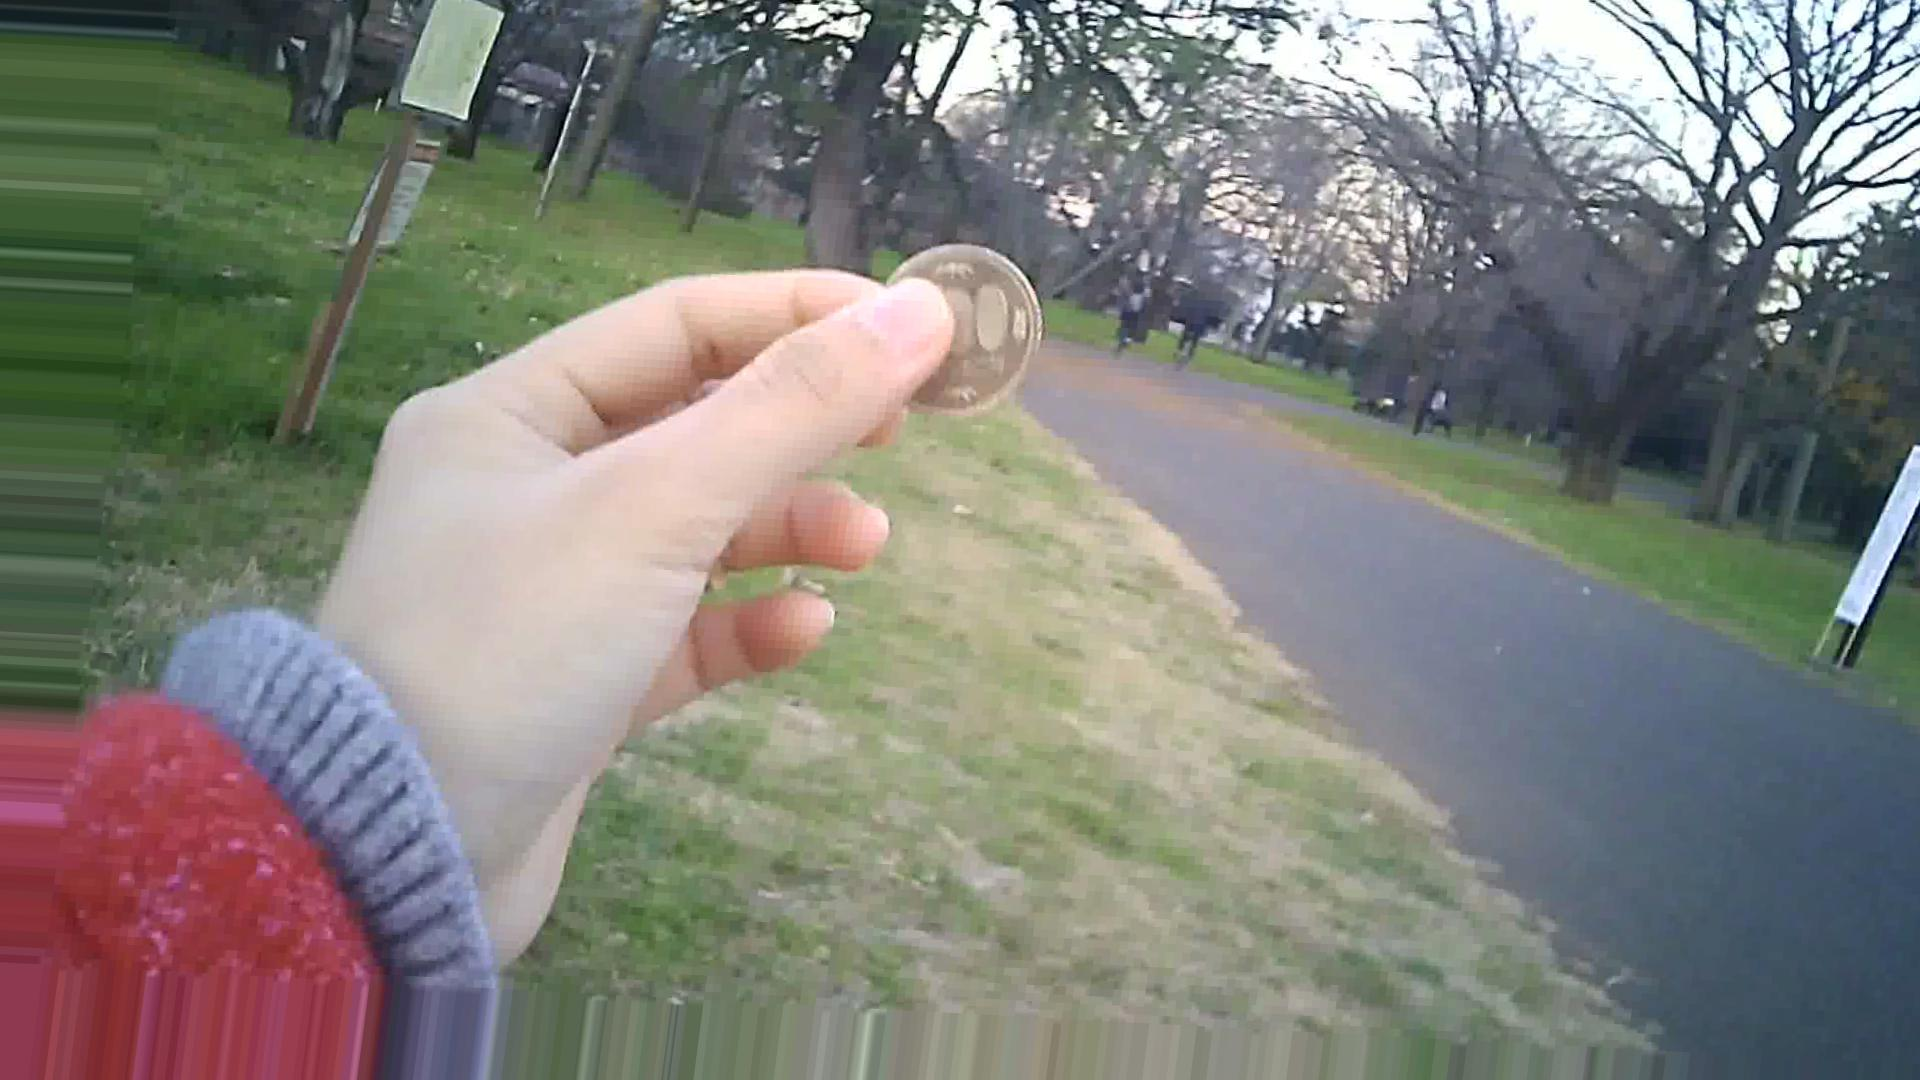500 Yen: (874, 229, 1052, 411)
